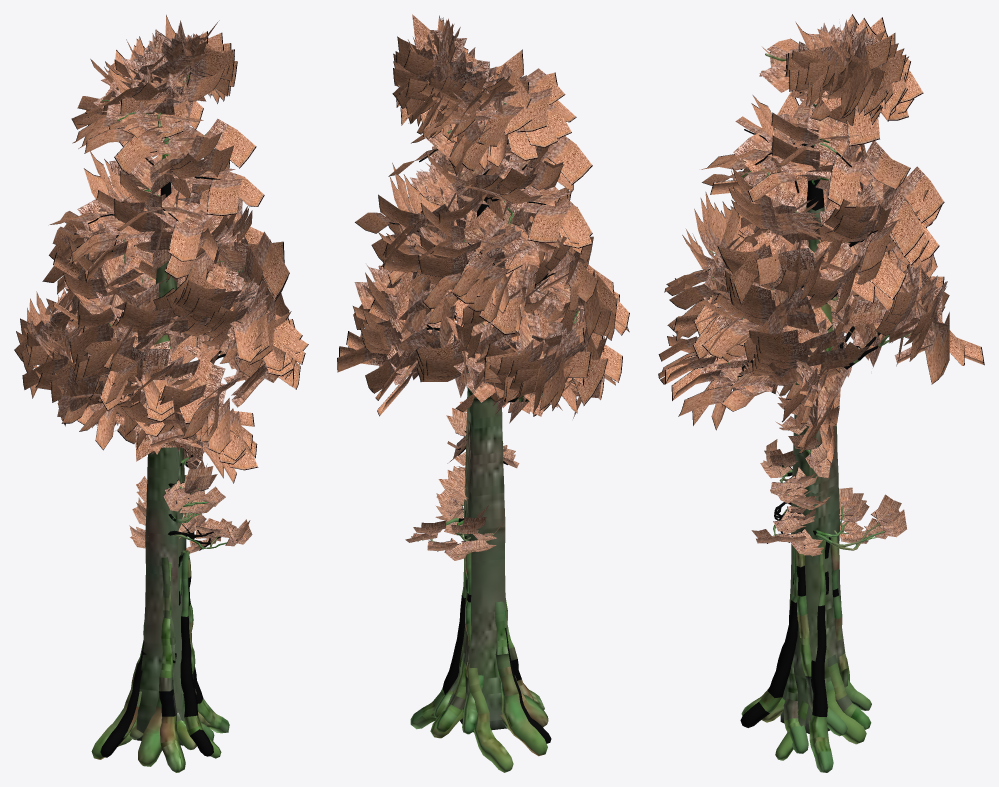
Rendered from tree6.glb.
3 views of the same model, side by side, from view 1: azimuth 30°, elevation 25°; view 2: azimuth 150°, elevation 25°; view 3: azimuth 270°, elevation 25° (orthographic). The views are drawn at different scales.
Parts seen in each view (by area): view 1: Bottom_T; view 2: Bottom_T; view 3: Bottom_T.
Part boxes in pixels (x1,y1,x2,y2): Bottom_T: [14, 15, 308, 772]; Bottom_T: [337, 14, 629, 772]; Bottom_T: [658, 14, 984, 772].
Bounding box in the file's own units: 18.31 × 47.09 × 18.74.
1 material, 1 textured.
